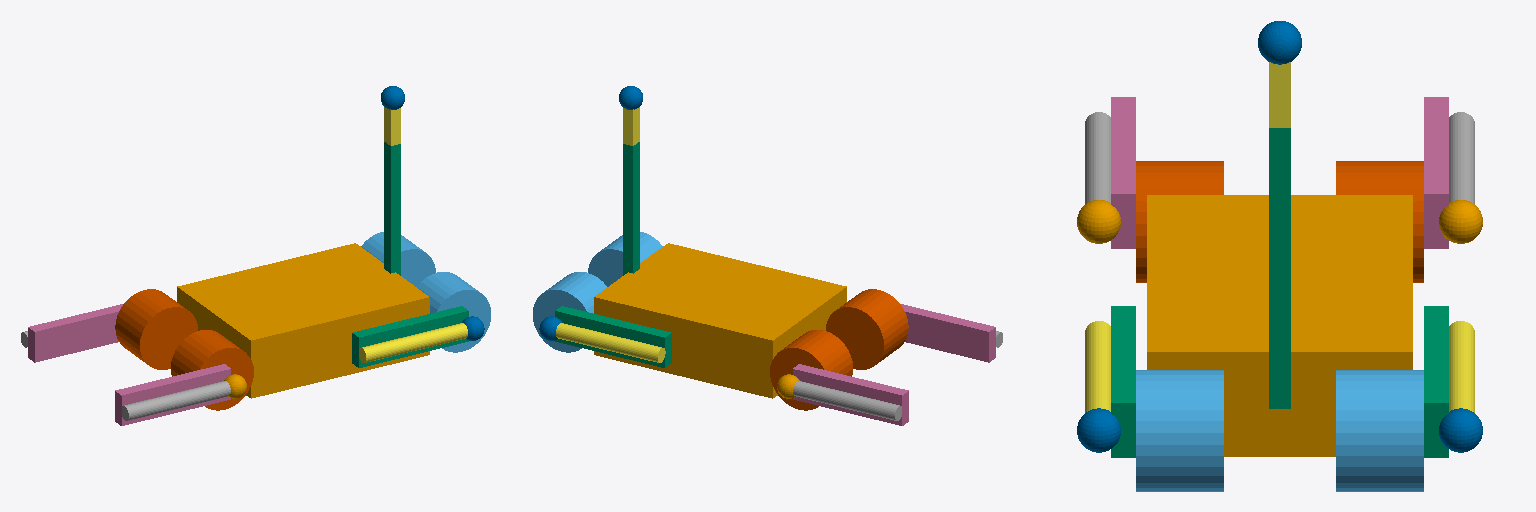
--- Render facts (derived) ---
3 views of the same robot in one strip: view 1: azimuth 30°, elevation 25°; view 2: azimuth 150°, elevation 25°; view 3: azimuth 270°, elevation 25° (orthographic).
Model spirit with 21 links and 20 joints (14 revolute, 6 fixed), rooted at body, posed all joints at 0 but 1 set to mid-range because 0 is outside their limits (body_tail_joint_0 = -1.57).
Visible links, largest first — view 1: body, hip1, upper1, hip3, upper2, upper3, hip2, tail_link_0, lower3, lower2, hip0, tail_link_1; view 2: body, hip3, upper3, hip1, upper0, upper1, hip0, tail_link_0, lower0, lower1, hip2, tail_link_1; view 3: body, hip0, hip2, tail_link_0, hip1, hip3, upper0, upper2, upper1, upper3, lower1, lower3 (+8 smaller).
Boxes of the visible links, bbox=[...] form: body: bbox=[177, 243, 429, 398]; hip1: bbox=[115, 289, 197, 369]; upper1: bbox=[28, 304, 122, 362]; hip3: bbox=[171, 330, 253, 410]; upper2: bbox=[352, 306, 468, 367]; upper3: bbox=[115, 364, 230, 425]; hip2: bbox=[417, 272, 490, 352]; tail_link_0: bbox=[384, 142, 400, 275]; lower3: bbox=[122, 381, 230, 420]; lower2: bbox=[359, 323, 467, 362]; hip0: bbox=[361, 232, 435, 286]; tail_link_1: bbox=[384, 107, 400, 145]; body: bbox=[594, 243, 846, 398]; hip3: bbox=[826, 289, 908, 369]; upper3: bbox=[901, 304, 995, 362]; hip1: bbox=[770, 330, 852, 410]; upper0: bbox=[555, 306, 671, 367]; upper1: bbox=[793, 364, 908, 425]; hip0: bbox=[533, 272, 606, 352]; tail_link_0: bbox=[623, 142, 639, 275]; lower0: bbox=[556, 323, 665, 362]; lower1: bbox=[793, 381, 901, 420]; hip2: bbox=[588, 232, 662, 286]; tail_link_1: bbox=[623, 107, 639, 145]; body: bbox=[1147, 195, 1412, 456]; hip0: bbox=[1336, 370, 1423, 491]; hip2: bbox=[1136, 370, 1223, 491]; tail_link_0: bbox=[1269, 128, 1290, 408]; hip1: bbox=[1336, 161, 1423, 282]; hip3: bbox=[1136, 161, 1223, 282]; upper0: bbox=[1424, 306, 1448, 457]; upper2: bbox=[1111, 306, 1135, 457]; upper1: bbox=[1424, 97, 1448, 248]; upper3: bbox=[1111, 97, 1135, 248]; lower1: bbox=[1449, 112, 1474, 203]; lower3: bbox=[1085, 112, 1110, 203].
Bounding box of the posed robot: 0.706 × 0.366 × 0.435 m (x, y, z).
Geometry: primitives only (box / cylinder / sphere), no mesh files.

The robot description file, URDF, robot "spirit":
<?xml version="1.0" ?>
<!-- =================================================================================== -->
<!-- |    This document was autogenerated by xacro from test_out.urdf.xacro            | -->
<!-- |    EDITING THIS FILE BY HAND IS NOT RECOMMENDED                                 | -->
<!-- =================================================================================== -->
<!-- 
MIT License (modified)
Copyright (c) 2020 Ghost Robotics
Authors:
Avik De <[email redacted]>
Tom Jacobs <[email redacted]>
Permission is hereby granted, free of charge, to any person obtaining a copy
of this **file** (the "Software"), to deal
in the Software without restriction, including without limitation the rights
to use, copy, modify, merge, publish, distribute, sublicense, and/or sell
copies of the Software, and to permit persons to whom the Software is
furnished to do so, subject to the following conditions:
The above copyright notice and this permission notice shall be included in all
copies or substantial portions of the Software.
THE SOFTWARE IS PROVIDED "AS IS", WITHOUT WARRANTY OF ANY KIND, EXPRESS OR
IMPLIED, INCLUDING BUT NOT LIMITED TO THE WARRANTIES OF MERCHANTABILITY,
FITNESS FOR A PARTICULAR PURPOSE AND NONINFRINGEMENT. IN NO EVENT SHALL THE
AUTHORS OR COPYRIGHT HOLDERS BE LIABLE FOR ANY CLAIM, DAMAGES OR OTHER
LIABILITY, WHETHER IN AN ACTION OF CONTRACT, TORT OR OTHERWISE, ARISING FROM,
OUT OF OR IN CONNECTION WITH THE SOFTWARE OR THE USE OR OTHER DEALINGS IN THE
SOFTWARE. 
-->
<robot name="spirit">
  <!-- Body -->
  <link name="body">
    <visual>
      <origin rpy="0 0 0" xyz="0 0 0"/>
      <geometry>
        <box size="0.335 0.24 0.104"/>
      </geometry>
      <material name="darkgray"/>
    </visual>
    <inertial>
      <mass value="5.75"/>
      <!-- Uniform box -->
      <!-- <inertia ixx="1/12*${bodyMass}*(${bodyWidth}*${bodyWidth} + ${bodyHeight}*${bodyHeight})"  ixy="0"  ixz="0" iyy="1/12*${bodyMass}*(${bodyLength}*${bodyLength} + ${bodyHeight}*${bodyHeight})" iyz="0" izz="1/12*${bodyMass}*(${bodyLength}*${bodyLength} + ${bodyWidth}*${bodyWidth})"/> -->
      <inertia ixx="0.05" ixy="0" ixz="0" iyy="0.1" iyz="0" izz="0.1"/>
    </inertial>
    <!-- Just copy geometry for collision -->
    <collision>
      <origin rpy="0 0 0" xyz="0 0 0"/>
      <geometry>
        <box size="0.335 0.24 0.104"/>
        <!-- <uri>model:///meshes/Spirit40_Body_Mesh_transformed.stl</uri> -->
      </geometry>
    </collision>
  </link>
  <gazebo reference="body">
    <material>Gazebo/Black</material>
    <gravity>true</gravity>
  </gazebo>
  <!-- Hip motor -->
  <link name="hip0">
    <visual>
      <origin rpy="1.570796326795 0 0" xyz="0 0.028 0"/>
      <geometry>
        <cylinder length="0.08" radius="0.055"/>
      </geometry>
    </visual>
    <collision>
      <origin rpy="1.570796326795 0 0" xyz="0 0.028 0"/>
      <geometry>
        Radius
					
        <!-- <cylinder length="${podLength}" radius="${podRadius}"/> -->
        <box size="0.11 0.11 0.08"/>
      </geometry>
    </collision>
    <inertial>
      <origin rpy="1.570796326795 0 0" xyz="0 0.028 0"/>
      <mass value="0.575"/>
      <!-- <inertia ixx="1/12*${podMass}*${podLength}*${podLength} + 1/4*${podMass}*${podRadius}*${podRadius}"  ixy="0"  ixz="0" iyy="1/12*${podMass}*${podLength}*${podLength} + 1/4*${podMass}*${podRadius}*${podRadius}" iyz="0" izz="1/2*${podMass}*${podRadius}*$
				{podRadius}" /> -->
      <inertia ixx="0.00066963541" ixy="0" ixz="0" iyy="0.00066963541" iyz="0" izz="0.0008696875"/>
    </inertial>
  </link>
  <gazebo reference="hip0">
    <material>Gazebo/Grey</material>
  </gazebo>
  <!-- Upper leg -->
  <link name="upper0">
    <visual>
      <origin rpy="0 0 0" xyz="-0.103 -0.022 0"/>
      <geometry>
        <box size="0.206 0.022 0.055"/>
      </geometry>
      <material name="silver"/>
    </visual>
    <collision>
      <origin rpy="0 0 0" xyz="-0.103 -0.022 0"/>
      <geometry>
        <box size="0.206 0.022 0.055"/>
      </geometry>
    </collision>
    <inertial>
      <origin rpy="0 0 0" xyz="-0.103 -0.022 0"/>
      <mass value="0.775"/>
      <inertia ixx="5e-05" ixy="0" ixz="0" iyy="0.001" iyz="0" izz="0.001"/>
    </inertial>
  </link>
  <gazebo reference="upper0">
    <material>Gazebo/DarkGrey</material>
  </gazebo>
  <!-- Abduction joint. Joint names are: 8 9 10 11 -->
  <joint name="8" type="revolute">
    <parent link="body"/>
    <child link="hip0"/>
    <axis xyz="1 0 0"/>
    <origin xyz="0.2225 0.061999999999999986 0"/>
    <!-- <origin xyz="${front * dx} ${left * dy} 0"/> -->
    <!-- <origin xyz="${front *bodyLength/2+front * podRadius} ${left *bodyWidth/2} 0"/> -->
    <limit effort="40" lower="-0.707" upper="0.707" velocity="30"/>
    <dynamics damping="0.0" friction="0.0"/>
  </joint>
  <!-- Transmission elements required for Gazebo -->
  <transmission name="transmission_8">
    <type>transmission_interface/SimpleTransmission</type>
    <joint name="8">
      <hardwareInterface>hardware_interface/EffortJointInterface</hardwareInterface>
    </joint>
    <actuator name="motor_8">
      <hardwareInterface>EffortJointInterface</hardwareInterface>
      <mechanicalReduction>1</mechanicalReduction>
    </actuator>
  </transmission>
  <!-- Hip joint. (Motor to upper leg). Joint names are: 0 2 4 6 -->
  <joint name="0" type="revolute">
    <parent link="hip0"/>
    <child link="upper0"/>
    <axis xyz="0 -1 0"/>
    <origin xyz="0 0.10098 0"/>
    <!--  rpy="0 -0.3 0" -->
    <limit effort="40" lower="-6.28318530718" upper="6.28318530718" velocity="30"/>
    <dynamics damping="0.0" friction="0.0"/>
  </joint>
  <!-- Transmission elements required for Gazebo -->
  <transmission name="transmission_0">
    <type>transmission_interface/SimpleTransmission</type>
    <joint name="0">
      <hardwareInterface>hardware_interface/EffortJointInterface</hardwareInterface>
    </joint>
    <actuator name="motor_0">
      <hardwareInterface>EffortJointInterface</hardwareInterface>
      <mechanicalReduction>1</mechanicalReduction>
    </actuator>
  </transmission>
  <!-- Lower leg -->
  <link name="lower0">
    <visual>
      <origin rpy="0 1.570796326795 0" xyz="0.103 0 0"/>
      <geometry>
        <cylinder length="0.206" radius="0.013"/>
      </geometry>
      <material name="darkgray"/>
    </visual>
    <collision>
      <origin rpy="0 1.570796326795 0" xyz="0.103 0 0"/>
      <geometry>
        <cylinder length="0.206" radius="0.013"/>
      </geometry>
    </collision>
    <inertial>
      <origin rpy="0 1.570796326795 0" xyz="0.103 0 0"/>
      <mass value="0.075"/>
      <inertia ixx="5e-06" ixy="0" ixz="0" iyy="0.0001" iyz="0" izz="0.0001"/>
    </inertial>
  </link>
  <gazebo reference="lower0">
    <material>Gazebo/Grey</material>
  </gazebo>
  <!-- Knee joint. Joint names are: 1 3 5 7 -->
  <joint name="1" type="revolute">
    <parent link="upper0"/>
    <child link="lower0"/>
    <axis xyz="0 1 0"/>
    <origin xyz="-0.206 0 0"/>
    <!--rpy="0 0.5 0"-->
    <limit effort="40" lower="0" upper="3.14159265359" velocity="30"/>
    <dynamics damping="0.0" friction="0.0"/>
  </joint>
  <!-- Transmission elements required for Gazebo -->
  <transmission name="transmission_1">
    <type>transmission_interface/SimpleTransmission</type>
    <joint name="1">
      <hardwareInterface>hardware_interface/EffortJointInterface</hardwareInterface>
    </joint>
    <actuator name="motor_1">
      <hardwareInterface>EffortJointInterface</hardwareInterface>
      <mechanicalReduction>1</mechanicalReduction>
    </actuator>
  </transmission>
  <!-- Toe -->
  <link name="toe0">
    <contact>
      <friction_anchor/>
      <stiffness value="30000.0"/>
      <damping value="1000.0"/>
      <spinning_friction value="0.3"/>
      <lateral_friction value="50.0"/>
    </contact>
    <visual>
      <origin rpy="0 0 0" xyz="0 0 0"/>
      <geometry>
        <sphere radius="0.02"/>
      </geometry>
      <material name="darkgray"/>
    </visual>
    <collision>
      <origin rpy="0 0 0" xyz="0 0 0"/>
      <geometry>
        <sphere radius="0.02"/>
      </geometry>
    </collision>
    <inertial>
      <mass value="0.015"/>
      <inertia ixx="0.000025" ixy="0" ixz="0" iyy="0.000025" iyz="0" izz="0.000025"/>
      <!-- <inertia ixx="2/5*${toeMass}*${toeRadius}*${toeRadius}"  ixy="0"  ixz="0" iyy="2/5*${toeMass}*${toeRadius}*${toeRadius}" iyz="0" izz="2/5*${toeMass}*${toeRadius}*${toeRadius}" /> -->
    </inertial>
  </link>
  <gazebo reference="toe0">
    <material>Gazebo/Black</material>
    <collision>
      <surface>
        <bounce>
          <restitution_coefficient>0</restitution_coefficient>
          <threshold>1e+06</threshold>
        </bounce>
        <friction>
          <torsional>
            <coefficient>0.3</coefficient>
          </torsional>
          <ode>
            <mu>100.0</mu>
            <mu2>50.0</mu2>
          </ode>
          <bullet>
            <rolling_friction>0.3</rolling_friction>
            <friction2>50.0</friction2>
          </bullet>
        </friction>
        <contact>
          <bullet>
            <kp>30000.0</kp>
            <kd>1000.0</kd>
          </bullet>
          <ode>
            <kp>30000.0</kp>
            <kd>1000.0</kd>
          </ode>
        </contact>
      </surface>
    </collision>
    <sensor name="toe0_contact" type="contact">
      <plugin filename="libgazebo_ros_bumper.so" name="toe0_plugin">
        <alwaysOn>1</alwaysOn>
        <updateRate>1000</updateRate>
        <bumperTopicName>gazebo/toe0_contact_state</bumperTopicName>
        <frameName>world</frameName>
        <robotNamespace>/</robotNamespace>
      </plugin>
      <contact>
        <collision>toe0_collision</collision>
        <topic>__default_topic__</topic>
      </contact>
      <update_rate>1000</update_rate>
    </sensor>
  </gazebo>
  <!-- Hip motor -->
  <link name="hip1">
    <visual>
      <origin rpy="1.570796326795 0 0" xyz="0 0.028 0"/>
      <geometry>
        <cylinder length="0.08" radius="0.055"/>
      </geometry>
    </visual>
    <collision>
      <origin rpy="1.570796326795 0 0" xyz="0 0.028 0"/>
      <geometry>
        Radius
					
        <!-- <cylinder length="${podLength}" radius="${podRadius}"/> -->
        <box size="0.11 0.11 0.08"/>
      </geometry>
    </collision>
    <inertial>
      <origin rpy="1.570796326795 0 0" xyz="0 0.028 0"/>
      <mass value="0.575"/>
      <!-- <inertia ixx="1/12*${podMass}*${podLength}*${podLength} + 1/4*${podMass}*${podRadius}*${podRadius}"  ixy="0"  ixz="0" iyy="1/12*${podMass}*${podLength}*${podLength} + 1/4*${podMass}*${podRadius}*${podRadius}" iyz="0" izz="1/2*${podMass}*${podRadius}*$
				{podRadius}" /> -->
      <inertia ixx="0.00066963541" ixy="0" ixz="0" iyy="0.00066963541" iyz="0" izz="0.0008696875"/>
    </inertial>
  </link>
  <gazebo reference="hip1">
    <material>Gazebo/Grey</material>
  </gazebo>
  <!-- Upper leg -->
  <link name="upper1">
    <visual>
      <origin rpy="0 0 0" xyz="-0.103 -0.022 0"/>
      <geometry>
        <box size="0.206 0.022 0.055"/>
      </geometry>
      <material name="silver"/>
    </visual>
    <collision>
      <origin rpy="0 0 0" xyz="-0.103 -0.022 0"/>
      <geometry>
        <box size="0.206 0.022 0.055"/>
      </geometry>
    </collision>
    <inertial>
      <origin rpy="0 0 0" xyz="-0.103 -0.022 0"/>
      <mass value="0.775"/>
      <inertia ixx="5e-05" ixy="0" ixz="0" iyy="0.001" iyz="0" izz="0.001"/>
    </inertial>
  </link>
  <gazebo reference="upper1">
    <material>Gazebo/DarkGrey</material>
  </gazebo>
  <!-- Abduction joint. Joint names are: 8 9 10 11 -->
  <joint name="9" type="revolute">
    <parent link="body"/>
    <child link="hip1"/>
    <axis xyz="1 0 0"/>
    <origin xyz="-0.2225 0.061999999999999986 0"/>
    <!-- <origin xyz="${front * dx} ${left * dy} 0"/> -->
    <!-- <origin xyz="${front *bodyLength/2+front * podRadius} ${left *bodyWidth/2} 0"/> -->
    <limit effort="40" lower="-0.707" upper="0.707" velocity="30"/>
    <dynamics damping="0.0" friction="0.0"/>
  </joint>
  <!-- Transmission elements required for Gazebo -->
  <transmission name="transmission_9">
    <type>transmission_interface/SimpleTransmission</type>
    <joint name="9">
      <hardwareInterface>hardware_interface/EffortJointInterface</hardwareInterface>
    </joint>
    <actuator name="motor_9">
      <hardwareInterface>EffortJointInterface</hardwareInterface>
      <mechanicalReduction>1</mechanicalReduction>
    </actuator>
  </transmission>
  <!-- Hip joint. (Motor to upper leg). Joint names are: 0 2 4 6 -->
  <joint name="2" type="revolute">
    <parent link="hip1"/>
    <child link="upper1"/>
    <axis xyz="0 -1 0"/>
    <origin xyz="0 0.10098 0"/>
    <!--  rpy="0 -0.3 0" -->
    <limit effort="40" lower="-6.28318530718" upper="6.28318530718" velocity="30"/>
    <dynamics damping="0.0" friction="0.0"/>
  </joint>
  <!-- Transmission elements required for Gazebo -->
  <transmission name="transmission_2">
    <type>transmission_interface/SimpleTransmission</type>
    <joint name="2">
      <hardwareInterface>hardware_interface/EffortJointInterface</hardwareInterface>
    </joint>
    <actuator name="motor_2">
      <hardwareInterface>EffortJointInterface</hardwareInterface>
      <mechanicalReduction>1</mechanicalReduction>
    </actuator>
  </transmission>
  <!-- Lower leg -->
  <link name="lower1">
    <visual>
      <origin rpy="0 1.570796326795 0" xyz="0.103 0 0"/>
      <geometry>
        <cylinder length="0.206" radius="0.013"/>
      </geometry>
      <material name="darkgray"/>
    </visual>
    <collision>
      <origin rpy="0 1.570796326795 0" xyz="0.103 0 0"/>
      <geometry>
        <cylinder length="0.206" radius="0.013"/>
      </geometry>
    </collision>
    <inertial>
      <origin rpy="0 1.570796326795 0" xyz="0.103 0 0"/>
      <mass value="0.075"/>
      <inertia ixx="5e-06" ixy="0" ixz="0" iyy="0.0001" iyz="0" izz="0.0001"/>
    </inertial>
  </link>
  <gazebo reference="lower1">
    <material>Gazebo/Grey</material>
  </gazebo>
  <!-- Knee joint. Joint names are: 1 3 5 7 -->
  <joint name="3" type="revolute">
    <parent link="upper1"/>
    <child link="lower1"/>
    <axis xyz="0 1 0"/>
    <origin xyz="-0.206 0 0"/>
    <!--rpy="0 0.5 0"-->
    <limit effort="40" lower="0" upper="3.14159265359" velocity="30"/>
    <dynamics damping="0.0" friction="0.0"/>
  </joint>
  <!-- Transmission elements required for Gazebo -->
  <transmission name="transmission_3">
    <type>transmission_interface/SimpleTransmission</type>
    <joint name="3">
      <hardwareInterface>hardware_interface/EffortJointInterface</hardwareInterface>
    </joint>
    <actuator name="motor_3">
      <hardwareInterface>EffortJointInterface</hardwareInterface>
      <mechanicalReduction>1</mechanicalReduction>
    </actuator>
  </transmission>
  <!-- Toe -->
  <link name="toe1">
    <contact>
      <friction_anchor/>
      <stiffness value="30000.0"/>
      <damping value="1000.0"/>
      <spinning_friction value="0.3"/>
      <lateral_friction value="50.0"/>
    </contact>
    <visual>
      <origin rpy="0 0 0" xyz="0 0 0"/>
      <geometry>
        <sphere radius="0.02"/>
      </geometry>
      <material name="darkgray"/>
    </visual>
    <collision>
      <origin rpy="0 0 0" xyz="0 0 0"/>
      <geometry>
        <sphere radius="0.02"/>
      </geometry>
    </collision>
    <inertial>
      <mass value="0.015"/>
      <inertia ixx="0.000025" ixy="0" ixz="0" iyy="0.000025" iyz="0" izz="0.000025"/>
      <!-- <inertia ixx="2/5*${toeMass}*${toeRadius}*${toeRadius}"  ixy="0"  ixz="0" iyy="2/5*${toeMass}*${toeRadius}*${toeRadius}" iyz="0" izz="2/5*${toeMass}*${toeRadius}*${toeRadius}" /> -->
    </inertial>
  </link>
  <gazebo reference="toe1">
    <material>Gazebo/Black</material>
    <collision>
      <surface>
        <bounce>
          <restitution_coefficient>0</restitution_coefficient>
          <threshold>1e+06</threshold>
        </bounce>
        <friction>
          <torsional>
            <coefficient>0.3</coefficient>
          </torsional>
          <ode>
            <mu>100.0</mu>
            <mu2>50.0</mu2>
          </ode>
          <bullet>
            <rolling_friction>0.3</rolling_friction>
            <friction2>50.0</friction2>
          </bullet>
        </friction>
        <contact>
          <bullet>
            <kp>30000.0</kp>
            <kd>1000.0</kd>
          </bullet>
          <ode>
            <kp>30000.0</kp>
            <kd>1000.0</kd>
          </ode>
        </contact>
      </surface>
    </collision>
    <sensor name="toe1_contact" type="contact">
      <plugin filename="libgazebo_ros_bumper.so" name="toe1_plugin">
        <alwaysOn>1</alwaysOn>
        <updateRate>1000</updateRate>
        <bumperTopicName>gazebo/toe1_contact_state</bumperTopicName>
        <frameName>world</frameName>
        <robotNamespace>/</robotNamespace>
      </plugin>
      <contact>
        <collision>toe1_collision</collision>
        <topic>__default_topic__</topic>
      </contact>
      <update_rate>1000</update_rate>
    </sensor>
  </gazebo>
  <!-- Hip motor -->
  <link name="hip2">
    <visual>
      <origin rpy="1.570796326795 0 0" xyz="0 -0.028 0"/>
      <geometry>
        <cylinder length="0.08" radius="0.055"/>
      </geometry>
    </visual>
    <collision>
      <origin rpy="1.570796326795 0 0" xyz="0 -0.028 0"/>
      <geometry>
        Radius
					
        <!-- <cylinder length="${podLength}" radius="${podRadius}"/> -->
        <box size="0.11 0.11 0.08"/>
      </geometry>
    </collision>
    <inertial>
      <origin rpy="1.570796326795 0 0" xyz="0 -0.028 0"/>
      <mass value="0.575"/>
      <!-- <inertia ixx="1/12*${podMass}*${podLength}*${podLength} + 1/4*${podMass}*${podRadius}*${podRadius}"  ixy="0"  ixz="0" iyy="1/12*${podMass}*${podLength}*${podLength} + 1/4*${podMass}*${podRadius}*${podRadius}" iyz="0" izz="1/2*${podMass}*${podRadius}*$
				{podRadius}" /> -->
      <inertia ixx="0.00066963541" ixy="0" ixz="0" iyy="0.00066963541" iyz="0" izz="0.0008696875"/>
    </inertial>
  </link>
  <gazebo reference="hip2">
    <material>Gazebo/Grey</material>
  </gazebo>
  <!-- Upper leg -->
  <link name="upper2">
    <visual>
      <origin rpy="0 0 0" xyz="-0.103 0.022 0"/>
      <geometry>
        <box size="0.206 0.022 0.055"/>
      </geometry>
      <material name="silver"/>
    </visual>
    <collision>
      <origin rpy="0 0 0" xyz="-0.103 0.022 0"/>
      <geometry>
        <box size="0.206 0.022 0.055"/>
      </geometry>
    </collision>
    <inertial>
      <origin rpy="0 0 0" xyz="-0.103 0.022 0"/>
      <mass value="0.775"/>
      <inertia ixx="5e-05" ixy="0" ixz="0" iyy="0.001" iyz="0" izz="0.001"/>
    </inertial>
  </link>
  <gazebo reference="upper2">
    <material>Gazebo/DarkGrey</material>
  </gazebo>
  <!-- Abduction joint. Joint names are: 8 9 10 11 -->
  <joint name="10" type="revolute">
    <parent link="body"/>
    <child link="hip2"/>
    <axis xyz="1 0 0"/>
    <origin xyz="0.2225 -0.061999999999999986 0"/>
    <!-- <origin xyz="${front * dx} ${left * dy} 0"/> -->
    <!-- <origin xyz="${front *bodyLength/2+front * podRadius} ${left *bodyWidth/2} 0"/> -->
    <limit effort="40" lower="-0.707" upper="0.707" velocity="30"/>
    <dynamics damping="0.0" friction="0.0"/>
  </joint>
  <!-- Transmission elements required for Gazebo -->
  <transmission name="transmission_10">
    <type>transmission_interface/SimpleTransmission</type>
    <joint name="10">
      <hardwareInterface>hardware_interface/EffortJointInterface</hardwareInterface>
    </joint>
    <actuator name="motor_10">
      <hardwareInterface>EffortJointInterface</hardwareInterface>
      <mechanicalReduction>1</mechanicalReduction>
    </actuator>
  </transmission>
  <!-- Hip joint. (Motor to upper leg). Joint names are: 0 2 4 6 -->
  <joint name="4" type="revolute">
    <parent link="hip2"/>
    <child link="upper2"/>
    <axis xyz="0 -1 0"/>
    <origin xyz="0 -0.10098 0"/>
    <!--  rpy="0 -0.3 0" -->
    <limit effort="40" lower="-6.28318530718" upper="6.28318530718" velocity="30"/>
    <dynamics damping="0.0" friction="0.0"/>
  </joint>
  <!-- Transmission elements required for Gazebo -->
  <transmission name="transmission_4">
    <type>transmission_interface/SimpleTransmission</type>
    <joint name="4">
      <hardwareInterface>hardware_interface/EffortJointInterface</hardwareInterface>
    </joint>
    <actuator name="motor_4">
      <hardwareInterface>EffortJointInterface</hardwareInterface>
      <mechanicalReduction>1</mechanicalReduction>
    </actuator>
  </transmission>
  <!-- Lower leg -->
  <link name="lower2">
    <visual>
      <origin rpy="0 1.570796326795 0" xyz="0.103 0 0"/>
      <geometry>
        <cylinder length="0.206" radius="0.013"/>
      </geometry>
      <material name="darkgray"/>
    </visual>
    <collision>
      <origin rpy="0 1.570796326795 0" xyz="0.103 0 0"/>
      <geometry>
        <cylinder length="0.206" radius="0.013"/>
      </geometry>
    </collision>
    <inertial>
      <origin rpy="0 1.570796326795 0" xyz="0.103 0 0"/>
      <mass value="0.075"/>
      <inertia ixx="5e-06" ixy="0" ixz="0" iyy="0.0001" iyz="0" izz="0.0001"/>
    </inertial>
  </link>
  <gazebo reference="lower2">
    <material>Gazebo/Grey</material>
  </gazebo>
  <!-- Knee joint. Joint names are: 1 3 5 7 -->
  <joint name="5" type="revolute">
    <parent link="upper2"/>
    <child link="lower2"/>
    <axis xyz="0 1 0"/>
    <origin xyz="-0.206 0 0"/>
    <!--rpy="0 0.5 0"-->
    <limit effort="40" lower="0" upper="3.14159265359" velocity="30"/>
    <dynamics damping="0.0" friction="0.0"/>
  </joint>
  <!-- Transmission elements required for Gazebo -->
  <transmission name="transmission_5">
    <type>transmission_interface/SimpleTransmission</type>
    <joint name="5">
      <hardwareInterface>hardware_interface/EffortJointInterface</hardwareInterface>
    </joint>
    <actuator name="motor_5">
      <hardwareInterface>EffortJointInterface</hardwareInterface>
      <mechanicalReduction>1</mechanicalReduction>
    </actuator>
  </transmission>
  <!-- Toe -->
  <link name="toe2">
    <contact>
      <friction_anchor/>
      <stiffness value="30000.0"/>
      <damping value="1000.0"/>
      <spinning_friction value="0.3"/>
      <lateral_friction value="50.0"/>
    </contact>
    <visual>
      <origin rpy="0 0 0" xyz="0 0 0"/>
      <geometry>
        <sphere radius="0.02"/>
      </geometry>
      <material name="darkgray"/>
    </visual>
    <collision>
      <origin rpy="0 0 0" xyz="0 0 0"/>
      <geometry>
        <sphere radius="0.02"/>
      </geometry>
    </collision>
    <inertial>
      <mass value="0.015"/>
      <inertia ixx="0.000025" ixy="0" ixz="0" iyy="0.000025" iyz="0" izz="0.000025"/>
      <!-- <inertia ixx="2/5*${toeMass}*${toeRadius}*${toeRadius}"  ixy="0"  ixz="0" iyy="2/5*${toeMass}*${toeRadius}*${toeRadius}" iyz="0" izz="2/5*${toeMass}*${toeRadius}*${toeRadius}" /> -->
    </inertial>
  </link>
  <gazebo reference="toe2">
    <material>Gazebo/Black</material>
    <collision>
      <surface>
        <bounce>
          <restitution_coefficient>0</restitution_coefficient>
          <threshold>1e+06</threshold>
        </bounce>
        <friction>
          <torsional>
            <coefficient>0.3</coefficient>
          </torsional>
          <ode>
            <mu>100.0</mu>
            <mu2>50.0</mu2>
          </ode>
          <bullet>
            <rolling_friction>0.3</rolling_friction>
            <friction2>50.0</friction2>
          </bullet>
        </friction>
        <contact>
          <bullet>
            <kp>30000.0</kp>
            <kd>1000.0</kd>
          </bullet>
          <ode>
            <kp>30000.0</kp>
            <kd>1000.0</kd>
          </ode>
        </contact>
      </surface>
    </collision>
    <sensor name="toe2_contact" type="contact">
      <plugin filename="libgazebo_ros_bumper.so" name="toe2_plugin">
        <alwaysOn>1</alwaysOn>
        <updateRate>1000</updateRate>
        <bumperTopicName>gazebo/toe2_contact_state</bumperTopicName>
        <frameName>world</frameName>
        <robotNamespace>/</robotNamespace>
      </plugin>
      <contact>
        <collision>toe2_collision</collision>
        <topic>__default_topic__</topic>
      </contact>
      <update_rate>1000</update_rate>
    </sensor>
  </gazebo>
  <!-- Hip motor -->
  <link name="hip3">
    <visual>
      <origin rpy="1.570796326795 0 0" xyz="0 -0.028 0"/>
      <geometry>
        <cylinder length="0.08" radius="0.055"/>
      </geometry>
    </visual>
    <collision>
      <origin rpy="1.570796326795 0 0" xyz="0 -0.028 0"/>
      <geometry>
        Radius
					
        <!-- <cylinder length="${podLength}" radius="${podRadius}"/> -->
        <box size="0.11 0.11 0.08"/>
      </geometry>
    </collision>
    <inertial>
      <origin rpy="1.570796326795 0 0" xyz="0 -0.028 0"/>
      <mass value="0.575"/>
      <!-- <inertia ixx="1/12*${podMass}*${podLength}*${podLength} + 1/4*${podMass}*${podRadius}*${podRadius}"  ixy="0"  ixz="0" iyy="1/12*${podMass}*${podLength}*${podLength} + 1/4*${podMass}*${podRadius}*${podRadius}" iyz="0" izz="1/2*${podMass}*${podRadius}*$
				{podRadius}" /> -->
      <inertia ixx="0.00066963541" ixy="0" ixz="0" iyy="0.00066963541" iyz="0" izz="0.0008696875"/>
    </inertial>
  </link>
  <gazebo reference="hip3">
    <material>Gazebo/Grey</material>
  </gazebo>
  <!-- Upper leg -->
  <link name="upper3">
    <visual>
      <origin rpy="0 0 0" xyz="-0.103 0.022 0"/>
      <geometry>
        <box size="0.206 0.022 0.055"/>
      </geometry>
      <material name="silver"/>
    </visual>
    <collision>
      <origin rpy="0 0 0" xyz="-0.103 0.022 0"/>
      <geometry>
        <box size="0.206 0.022 0.055"/>
      </geometry>
    </collision>
    <inertial>
      <origin rpy="0 0 0" xyz="-0.103 0.022 0"/>
      <mass value="0.775"/>
      <inertia ixx="5e-05" ixy="0" ixz="0" iyy="0.001" iyz="0" izz="0.001"/>
    </inertial>
  </link>
  <gazebo reference="upper3">
    <material>Gazebo/DarkGrey</material>
  </gazebo>
  <!-- Abduction joint. Joint names are: 8 9 10 11 -->
  <joint name="11" type="revolute">
    <parent link="body"/>
    <child link="hip3"/>
    <axis xyz="1 0 0"/>
    <origin xyz="-0.2225 -0.061999999999999986 0"/>
    <!-- <origin xyz="${front * dx} ${left * dy} 0"/> -->
    <!-- <origin xyz="${front *bodyLength/2+front * podRadius} ${left *bodyWidth/2} 0"/> -->
    <limit effort="40" lower="-0.707" upper="0.707" velocity="30"/>
    <dynamics damping="0.0" friction="0.0"/>
  </joint>
  <!-- Transmission elements required for Gazebo -->
  <transmission name="transmission_11">
    <type>transmission_interface/SimpleTransmission</type>
    <joint name="11">
      <hardwareInterface>hardware_interface/EffortJointInterface</hardwareInterface>
    </joint>
    <actuator name="motor_11">
      <hardwareInterface>EffortJointInterface</hardwareInterface>
      <mechanicalReduction>1</mechanicalReduction>
    </actuator>
  </transmission>
  <!-- Hip joint. (Motor to upper leg). Joint names are: 0 2 4 6 -->
  <joint name="6" type="revolute">
    <parent link="hip3"/>
    <child link="upper3"/>
    <axis xyz="0 -1 0"/>
    <origin xyz="0 -0.10098 0"/>
    <!--  rpy="0 -0.3 0" -->
    <limit effort="40" lower="-6.28318530718" upper="6.28318530718" velocity="30"/>
    <dynamics damping="0.0" friction="0.0"/>
  </joint>
  <!-- Transmission elements required for Gazebo -->
  <transmission name="transmission_6">
    <type>transmission_interface/SimpleTransmission</type>
    <joint name="6">
      <hardwareInterface>hardware_interface/EffortJointInterface</hardwareInterface>
    </joint>
    <actuator name="motor_6">
      <hardwareInterface>EffortJointInterface</hardwareInterface>
      <mechanicalReduction>1</mechanicalReduction>
    </actuator>
  </transmission>
  <!-- Lower leg -->
  <link name="lower3">
    <visual>
      <origin rpy="0 1.570796326795 0" xyz="0.103 0 0"/>
      <geometry>
        <cylinder length="0.206" radius="0.013"/>
      </geometry>
      <material name="darkgray"/>
    </visual>
    <collision>
      <origin rpy="0 1.570796326795 0" xyz="0.103 0 0"/>
      <geometry>
        <cylinder length="0.206" radius="0.013"/>
      </geometry>
    </collision>
    <inertial>
      <origin rpy="0 1.570796326795 0" xyz="0.103 0 0"/>
      <mass value="0.075"/>
      <inertia ixx="5e-06" ixy="0" ixz="0" iyy="0.0001" iyz="0" izz="0.0001"/>
    </inertial>
  </link>
  <gazebo reference="lower3">
    <material>Gazebo/Grey</material>
  </gazebo>
  <!-- Knee joint. Joint names are: 1 3 5 7 -->
  <joint name="7" type="revolute">
    <parent link="upper3"/>
    <child link="lower3"/>
    <axis xyz="0 1 0"/>
    <origin xyz="-0.206 0 0"/>
    <!--rpy="0 0.5 0"-->
    <limit effort="40" lower="0" upper="3.14159265359" velocity="30"/>
    <dynamics damping="0.0" friction="0.0"/>
  </joint>
  <!-- Transmission elements required for Gazebo -->
  <transmission name="transmission_7">
    <type>transmission_interface/SimpleTransmission</type>
    <joint name="7">
      <hardwareInterface>hardware_interface/EffortJointInterface</hardwareInterface>
    </joint>
    <actuator name="motor_7">
      <hardwareInterface>EffortJointInterface</hardwareInterface>
      <mechanicalReduction>1</mechanicalReduction>
    </actuator>
  </transmission>
  <!-- Toe -->
  <link name="toe3">
    <contact>
      <friction_anchor/>
      <stiffness value="30000.0"/>
      <damping value="1000.0"/>
      <spinning_friction value="0.3"/>
      <lateral_friction value="50.0"/>
    </contact>
    <visual>
      <origin rpy="0 0 0" xyz="0 0 0"/>
      <geometry>
        <sphere radius="0.02"/>
      </geometry>
      <material name="darkgray"/>
    </visual>
    <collision>
      <origin rpy="0 0 0" xyz="0 0 0"/>
      <geometry>
        <sphere radius="0.02"/>
      </geometry>
    </collision>
    <inertial>
      <mass value="0.015"/>
      <inertia ixx="0.000025" ixy="0" ixz="0" iyy="0.000025" iyz="0" izz="0.000025"/>
      <!-- <inertia ixx="2/5*${toeMass}*${toeRadius}*${toeRadius}"  ixy="0"  ixz="0" iyy="2/5*${toeMass}*${toeRadius}*${toeRadius}" iyz="0" izz="2/5*${toeMass}*${toeRadius}*${toeRadius}" /> -->
    </inertial>
  </link>
  <gazebo reference="toe3">
    <material>Gazebo/Black</material>
    <collision>
      <surface>
        <bounce>
          <restitution_coefficient>0</restitution_coefficient>
          <threshold>1e+06</threshold>
        </bounce>
        <friction>
          <torsional>
            <coefficient>0.3</coefficient>
          </torsional>
          <ode>
            <mu>100.0</mu>
            <mu2>50.0</mu2>
          </ode>
          <bullet>
            <rolling_friction>0.3</rolling_friction>
            <friction2>50.0</friction2>
          </bullet>
        </friction>
        <contact>
          <bullet>
            <kp>30000.0</kp>
            <kd>1000.0</kd>
          </bullet>
          <ode>
            <kp>30000.0</kp>
            <kd>1000.0</kd>
          </ode>
        </contact>
      </surface>
    </collision>
    <sensor name="toe3_contact" type="contact">
      <plugin filename="libgazebo_ros_bumper.so" name="toe3_plugin">
        <alwaysOn>1</alwaysOn>
        <updateRate>1000</updateRate>
        <bumperTopicName>gazebo/toe3_contact_state</bumperTopicName>
        <frameName>world</frameName>
        <robotNamespace>/</robotNamespace>
      </plugin>
      <contact>
        <collision>toe3_collision</collision>
        <topic>__default_topic__</topic>
      </contact>
      <update_rate>1000</update_rate>
    </sensor>
  </gazebo>
  <link name="imu::link">
    <visual>
      <origin rpy="0 0 0" xyz="0 0 0"/>
      <geometry>
        <sphere radius="0.02"/>
      </geometry>
      <material name="gray"/>
    </visual>
    <inertial>
      <mass value="0.001"/>
      <inertia ixx="0.0001" ixy="0" ixz="0" iyy="0" iyz="0" izz="0"/>
    </inertial>
  </link>
  <gazebo reference="imu::link">
    <material>Gazebo/Gray</material>
    <sensor name="imu_sensor" type="imu">
      <always_on>1</always_on>
      <update_rate>100</update_rate>
      <visualize>1</visualize>
      <topic>__default_topic__</topic>
      <plugin filename="libgazebo_ros_imu_sensor.so" name="imu_plugin">
        <topicName>/mcu/state/imu</topicName>
        <bodyName>imu::link</bodyName>
        <robotNamespace>/</robotNamespace>
        <updateRateHZ>500.0</updateRateHZ>
        <gaussianNoise>0.0</gaussianNoise>
        <xyzOffset>0 0 0</xyzOffset>
        <rpyOffset>0 0 0</rpyOffset>
        <frameName>imu::link</frameName>
        <initialOrientationAsReference>0</initialOrientationAsReference>
      </plugin>
      <pose frame="">0 0 0 0 -0 0</pose>
      <imu/>
    </sensor>
  </gazebo>
  <link name="tail_link_0">
    <visual>
      <origin rpy="0 0 0" xyz="0.14 0 0"/>
      <geometry>
        <box size="0.28 0.02 0.02"/>
      </geometry>
      <material name="darkgray"/>
    </visual>
    <inertial>
      <origin rpy="0 0 0" xyz="0.14 0 0"/>
      <mass value="0.011200000000000002"/>
      <inertia ixx="0.0001" ixy="0" ixz="0" iyy="0.0001" iyz="0" izz="0.0001"/>
    </inertial>
    <!-- Just copy geometry for collision -->
    <!-- <collision>
		<origin rpy="0 0 0" xyz="${neckLength1/2} 0 0"/>
			<geometry>
				<box size="${neckLength1} ${neckWidth} ${neckHeight}"/>
			</geometry>
		</collision> -->
  </link>
  <gazebo reference="tail_link_0">
    <material>Gazebo/Gray</material>
  </gazebo>
  <link name="tail_link_1">
    <visual>
      <origin rpy="0 0 0" xyz="0.04 0 0"/>
      <geometry>
        <box size="0.08 0.02 0.02"/>
      </geometry>
      <material name="darkgray"/>
    </visual>
    <inertial>
      <origin rpy="0 0 0" xyz="0.04 0 0"/>
      <mass value="0.00032"/>
      <inertia ixx="0.0001" ixy="0" ixz="0" iyy="0.0001" iyz="0" izz="0.0001"/>
    </inertial>
    <!-- Just copy geometry for collision -->
    <!-- <collision>
		<origin rpy="0 0 0" xyz="${neckLength2/2} 0 0"/>
			<geometry>
				<box size="${neckLength2} ${neckWidth} ${neckHeight}"/>
			</geometry>
		</collision> -->
  </link>
  <gazebo reference="tail_link_1">
    <material>Gazebo/Gray</material>
  </gazebo>
  <link name="tail_mass">
    <visual>
      <origin rpy="0 0 0" xyz="0 0 0"/>
      <geometry>
        <sphere radius="0.02"/>
      </geometry>
      <material name="gray"/>
    </visual>
    <inertial>
      <mass value="0.005"/>
      <inertia ixx="0.001" ixy="0" ixz="0" iyy="0" iyz="0" izz="0"/>
    </inertial>
    <collision>
      <origin rpy="0 0 0" xyz="0 0 0"/>
      <geometry>
        <sphere radius="0.02"/>
      </geometry>
    </collision>
  </link>
  <gazebo reference="tail_mass">
    <material>Gazebo/Gray</material>
  </gazebo>
  <joint name="body_tail_joint_0" type="revolute">
    <parent link="body"/>
    <child link="tail_link_0"/>
    <axis xyz="0 1 0"/>
    <!-- <origin xyz="${neckAttachmentX} 0 0"/> -->
    <origin xyz="0.1675 0 0"/>
    <limit effort="35" lower="-1.57" upper="-1.57" velocity="1000000"/>
    <dynamics damping="0.0" friction="0.0"/>
  </joint>
  <!-- Transmission elements required for Gazebo -->
  <transmission name="transmission_body_tail_joint_0">
    <type>transmission_interface/SimpleTransmission</type>
    <joint name="body_tail_joint_0">
      <hardwareInterface>hardware_interface/EffortJointInterface</hardwareInterface>
    </joint>
    <actuator name="motor_body_tail_joint_0">
      <hardwareInterface>EffortJointInterface</hardwareInterface>
      <mechanicalReduction>1</mechanicalReduction>
    </actuator>
  </transmission>
  <joint name="body_tail_joint_1" type="revolute">
    <parent link="tail_link_0"/>
    <child link="tail_link_1"/>
    <axis xyz="0 1 0"/>
    <origin xyz="0.28 0 0"/>
    <limit effort="35" lower="-1.57" upper="1.57" velocity="1000000"/>
    <dynamics damping="0.0" friction="0.0"/>
  </joint>
  <!-- Transmission elements required for Gazebo -->
  <transmission name="transmission_body_tail_joint_1">
    <type>transmission_interface/SimpleTransmission</type>
    <joint name="body_tail_joint_1">
      <hardwareInterface>hardware_interface/EffortJointInterface</hardwareInterface>
    </joint>
    <actuator name="motor_body_tail_joint_1">
      <hardwareInterface>EffortJointInterface</hardwareInterface>
      <mechanicalReduction>1</mechanicalReduction>
    </actuator>
  </transmission>
  <joint name="tail_link_mass_joint" type="fixed">
    <parent link="tail_link_1"/>
    <child link="tail_mass"/>
    <origin xyz="0.08 0 0"/>
    <dynamics damping="0.0" friction="0.0"/>
  </joint>
  <gazebo reference="tail_link_mass_joint">
    <disableFixedJointLumping>1</disableFixedJointLumping>
    <preserveFixedJoint>1</preserveFixedJoint>
  </gazebo>
  <joint name="jtoe0" type="fixed">
    <parent link="lower0"/>
    <child link="toe0"/>
    <origin xyz="0.206 0 -0.0"/>
    <dynamics damping="0.0" friction="0.0"/>
  </joint>
  <gazebo reference="jtoe0">
    <disableFixedJointLumping>1</disableFixedJointLumping>
    <preserveFixedJoint>1</preserveFixedJoint>
  </gazebo>
  <joint name="jtoe1" type="fixed">
    <parent link="lower1"/>
    <child link="toe1"/>
    <origin xyz="0.206 0 -0.0"/>
    <dynamics damping="0.0" friction="0.0"/>
  </joint>
  <gazebo reference="jtoe1">
    <disableFixedJointLumping>1</disableFixedJointLumping>
    <preserveFixedJoint>1</preserveFixedJoint>
  </gazebo>
  <joint name="jtoe2" type="fixed">
    <parent link="lower2"/>
    <child link="toe2"/>
    <origin xyz="0.206 0 -0.0"/>
    <dynamics damping="0.0" friction="0.0"/>
  </joint>
  <gazebo reference="jtoe2">
    <disableFixedJointLumping>1</disableFixedJointLumping>
    <preserveFixedJoint>1</preserveFixedJoint>
  </gazebo>
  <joint name="jtoe3" type="fixed">
    <parent link="lower3"/>
    <child link="toe3"/>
    <origin xyz="0.206 0 -0.0"/>
    <dynamics damping="0.0" friction="0.0"/>
  </joint>
  <gazebo reference="jtoe3">
    <disableFixedJointLumping>1</disableFixedJointLumping>
    <preserveFixedJoint>1</preserveFixedJoint>
  </gazebo>
  <joint name="imu_joint" type="fixed">
    <parent link="body"/>
    <child link="imu::link"/>
  </joint>
  <gazebo reference="imu_joint">
    <disableFixedJointLumping>1</disableFixedJointLumping>
    <preserveFixedJoint>1</preserveFixedJoint>
  </gazebo>
  <!--    CUSTOMIZED SECTIONS	ABOVE. NOT FROM GHOST ROBOTICS.    -->
  <!-- Add ros_control plugin -->
  <gazebo>
    <plugin filename="libgazebo_ros_control.so" name="gazebo_ros_control">
      <robotNamespace>/spirit</robotNamespace>
      <controlPeriod>0.002</controlPeriod>
    </plugin>
    <plugin filename="libground_truth_estimator.so" name="ground_truth_estimator">
      <updateRateHZ>500.0</updateRateHZ>
      <robotNamespace>/</robotNamespace>
    </plugin>
  </gazebo>
</robot>
